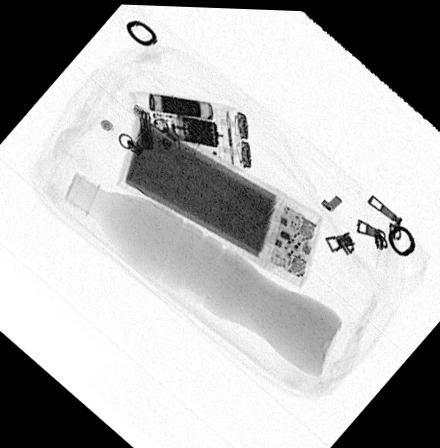Powerbank: (117, 112, 321, 285)
